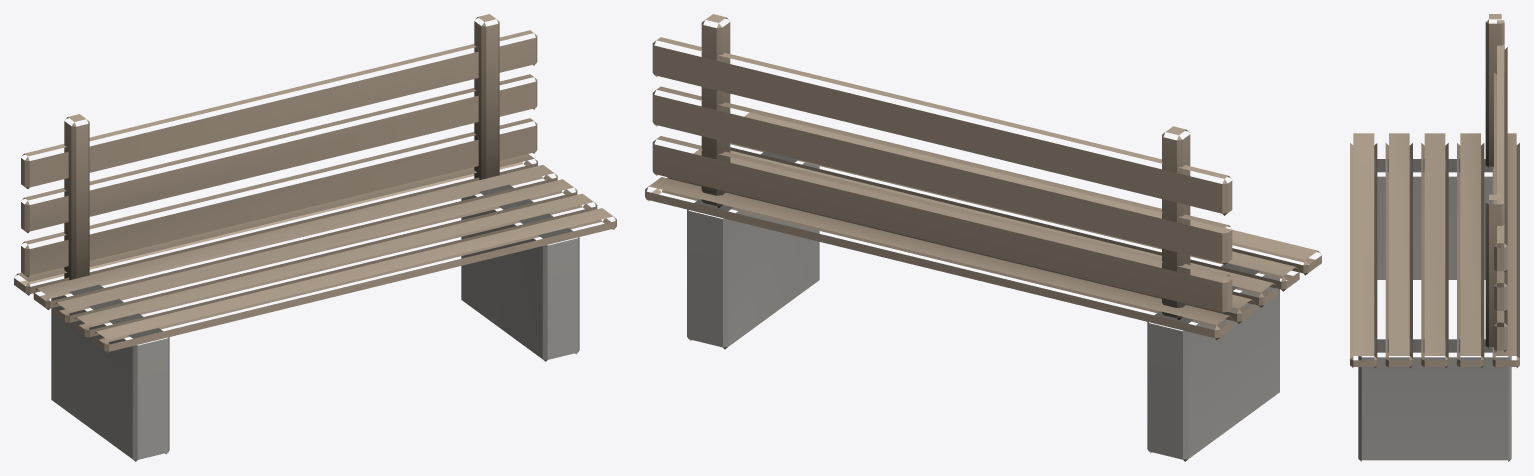
File: park_bench.glb
The picture shows the model from 3 angles, left to right: view 1: azimuth 30°, elevation 25°; view 2: azimuth 150°, elevation 25°; view 3: azimuth 270°, elevation 25°; orthographic projection. The views are drawn at different scales.
Parts seen in each view (by area): view 1: props_park_bench; view 2: props_park_bench; view 3: props_park_bench.
Boxes of the visible parts, x1,y1,x2,y2 form: props_park_bench: (14, 14, 616, 461); props_park_bench: (645, 14, 1321, 461); props_park_bench: (1350, 14, 1519, 461).
Size of the model in its own units: 1.95 by 1.04 by 0.62.
